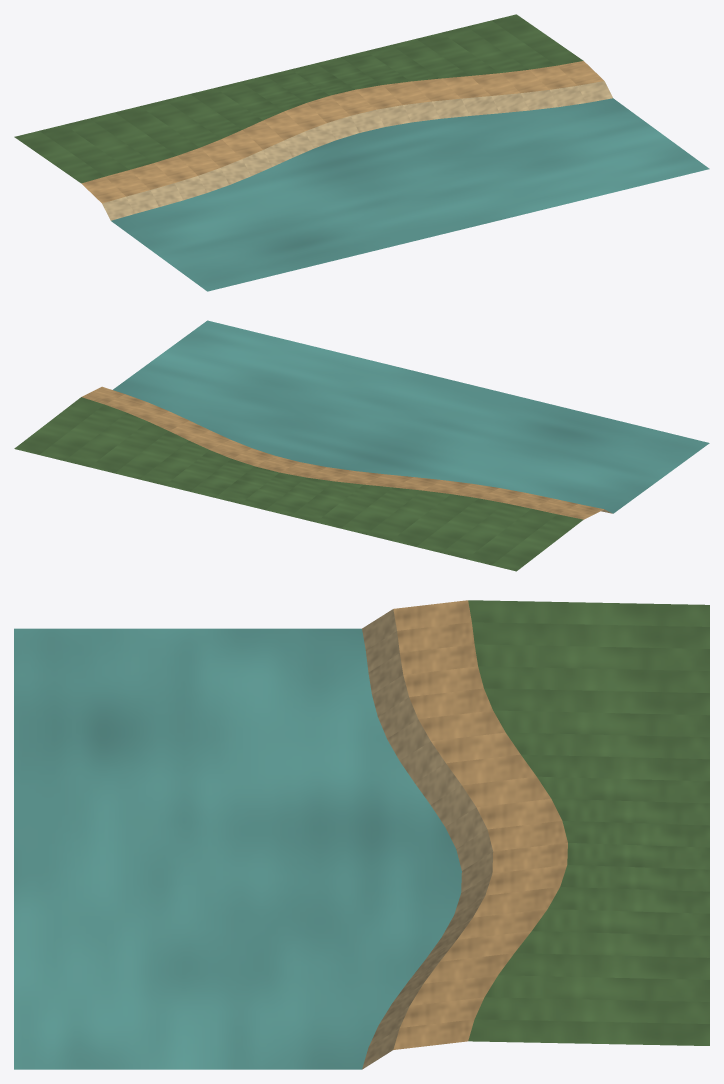
Rendered from lake_edge_set_05.fbx.
3 views of the same model, one above another, from view 1: azimuth 30°, elevation 25°; view 2: azimuth 150°, elevation 25°; view 3: azimuth 270°, elevation 25° (orthographic). The views are drawn at different scales.
Parts seen in each view (by area): view 1: lake_edge_set_05; view 2: lake_edge_set_05; view 3: lake_edge_set_05.
Boxes of the visible parts, x1,y1,x2,y2 form: lake_edge_set_05: (14, 14, 709, 291); lake_edge_set_05: (14, 320, 709, 571); lake_edge_set_05: (14, 600, 709, 1069).
Bounding box in the file's own units: 1200 × 36 × 800.
Materials: 2 (2 with a texture image).
